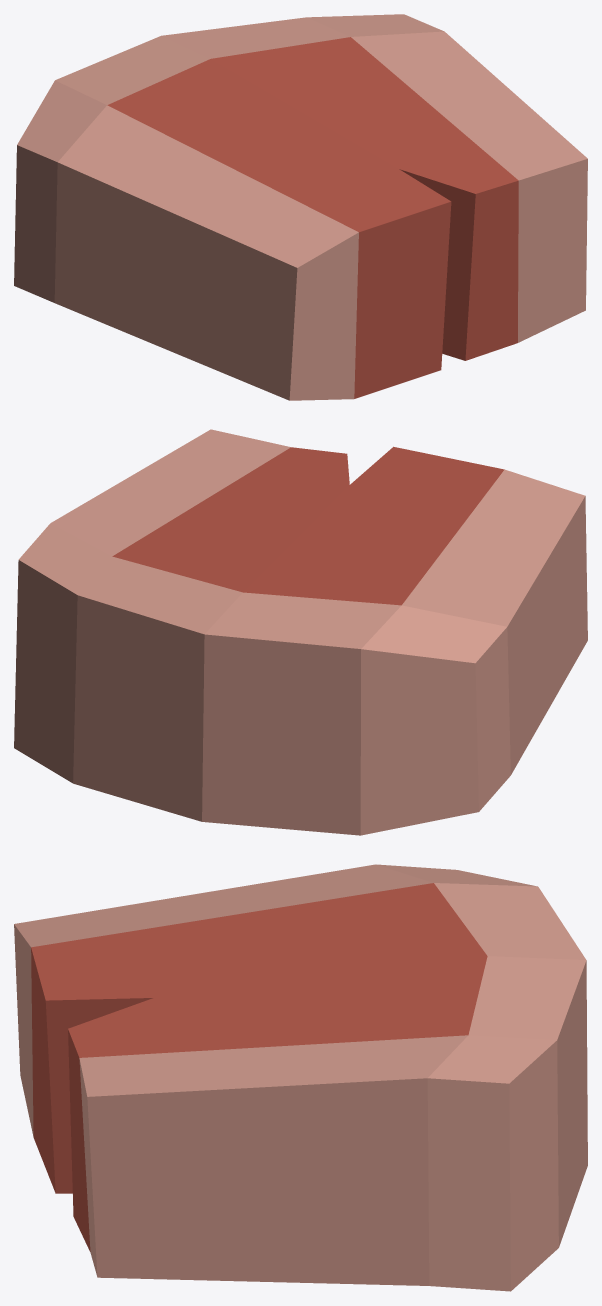
Rendered from picanhaFolded.fbx.
The picture shows the model from 3 angles, top to bottom: view 1: azimuth 30°, elevation 25°; view 2: azimuth 150°, elevation 25°; view 3: azimuth 270°, elevation 25°; orthographic projection. The views are drawn at different scales.
Parts seen in each view (by area): view 1: picanhaFolded; view 2: picanhaFolded; view 3: picanhaFolded.
Boxes of the visible parts, x1,y1,x2,y2 form: picanhaFolded: [14, 14, 587, 400]; picanhaFolded: [14, 429, 587, 835]; picanhaFolded: [14, 864, 587, 1291].
Bounding box in the file's own units: 14.11 × 6.17 × 14.43.
1 material, 1 textured.
